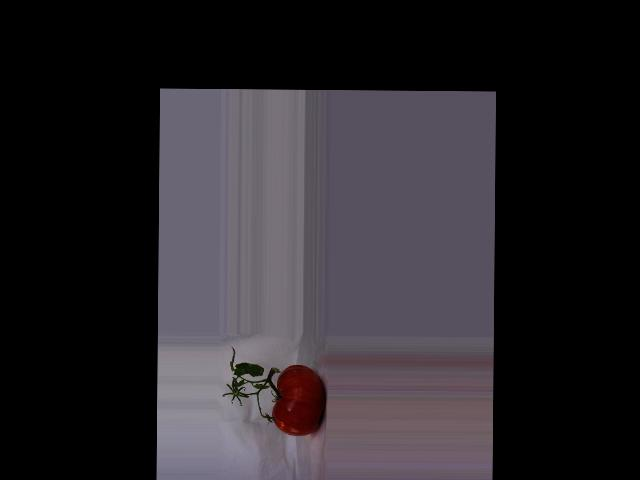tomato: (272, 364, 325, 436)
